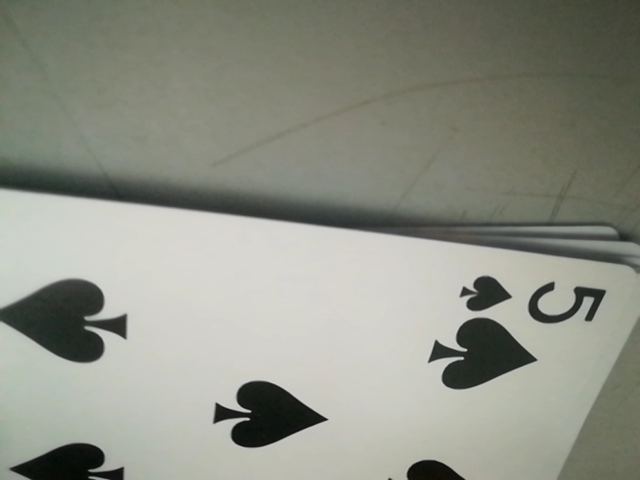ht 5: (457, 266, 610, 323)
